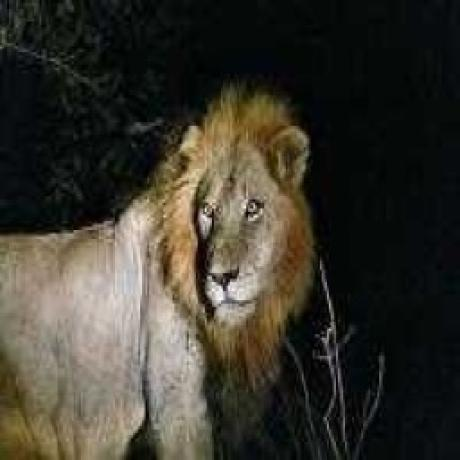Lion: (0, 81, 314, 460)
